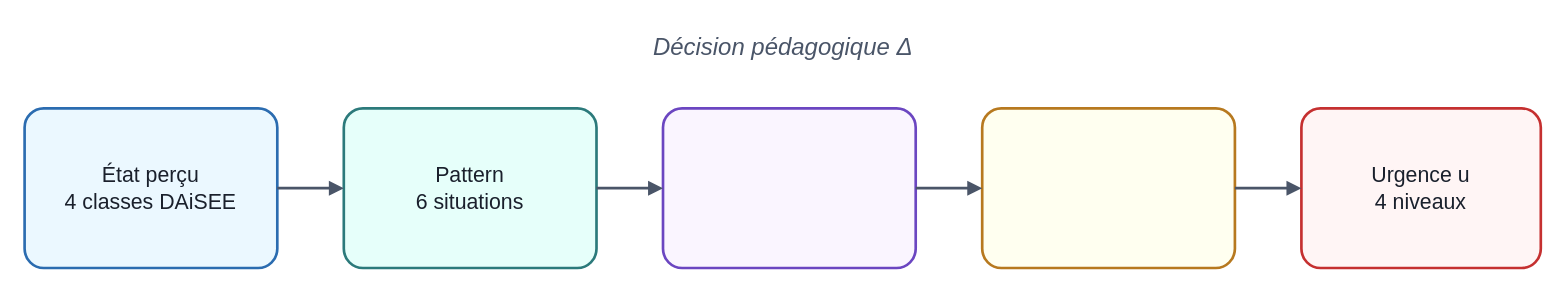
This 1564x291 diagram has some shape labels left out. The shapes that lost their labels are listed below. From the top down, each one's centre as x and y in pixels, then its label:
At (x=788, y=187): "Type τ A / B / C / D".
At (x=1108, y=187): "Patron γ A1–D5 (20)".
